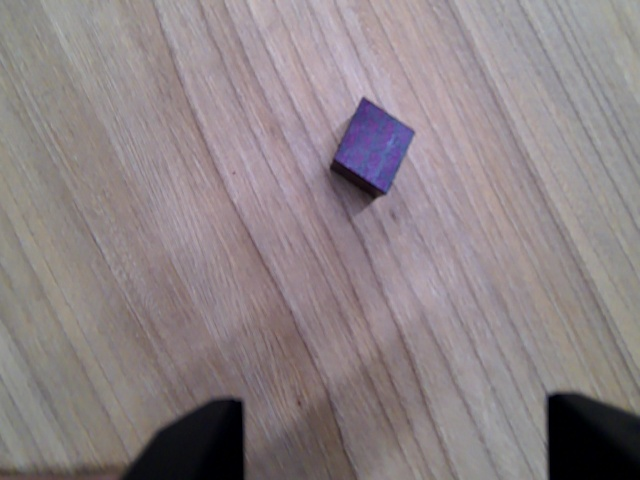brick: (326, 92, 419, 199)
